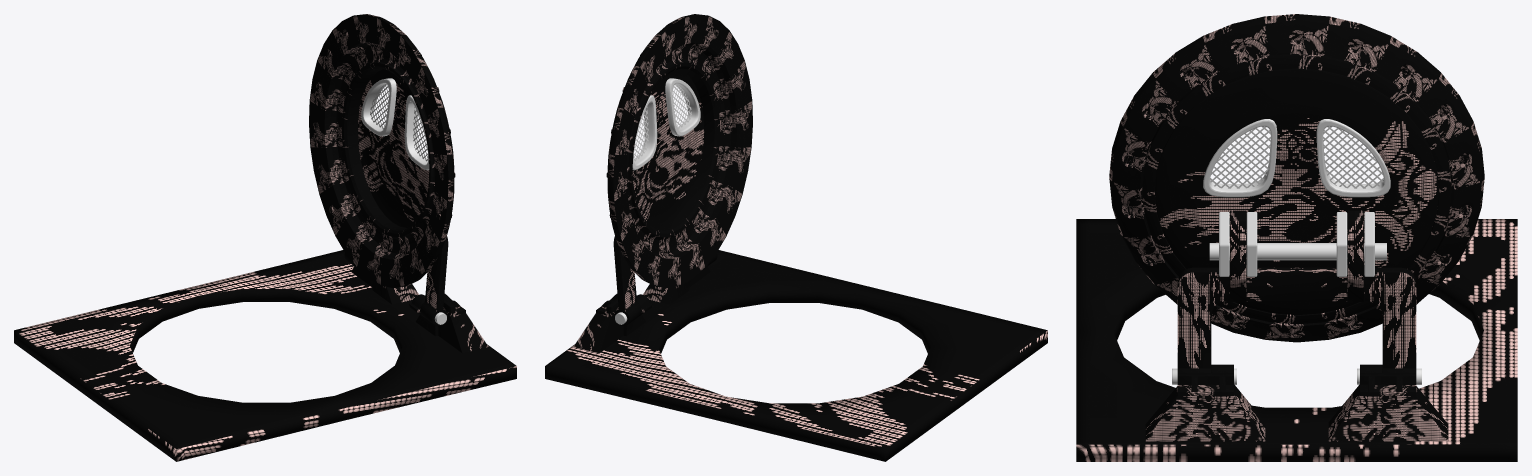
Rendered from dor.fbx.
The picture shows the model from 3 angles, left to right: view 1: azimuth 30°, elevation 25°; view 2: azimuth 150°, elevation 25°; view 3: azimuth 270°, elevation 25°; orthographic projection. The views are drawn at different scales.
Parts seen in each view (by area): view 1: Circle.004, Circle, Circle.001, Cube.002, Circle.002, Cube.001, Plane; view 2: Circle.004, Circle, Circle.001, Cube.002, Circle.002, Cube.001, Plane; view 3: Circle.004, Circle, Circle.001, Cube.001, Cube.002, Circle.002, Plane, Cube, Cylinder, Circle.003.
Boxes of the visible parts, box(x1,y1,x2,y2) form: Circle.004: box(14, 250, 516, 461); Circle: box(309, 14, 454, 288); Circle.001: box(357, 69, 429, 227); Cube.002: box(351, 264, 488, 353); Circle.002: box(361, 78, 429, 170); Cube.001: box(344, 236, 448, 325); Plane: box(370, 84, 427, 161); Circle.004: box(545, 250, 1047, 461); Circle: box(607, 14, 752, 288); Circle.001: box(632, 69, 704, 227); Cube.002: box(573, 264, 710, 353); Circle.002: box(632, 78, 700, 170); Cube.001: box(613, 236, 717, 325); Plane: box(634, 84, 691, 161); Circle.004: box(1076, 219, 1517, 461); Circle: box(1109, 14, 1484, 342); Circle.001: box(1154, 68, 1439, 315); Cube.001: box(1177, 210, 1416, 372); Cube.002: box(1145, 364, 1448, 441); Circle.002: box(1203, 119, 1390, 197); Plane: box(1210, 126, 1383, 188); Cube: box(1219, 212, 1374, 276); Cylinder: box(1209, 243, 1386, 260); Circle.003: box(1124, 36, 1469, 337).
Size of the model in its own units: 836 by 720 by 691.
